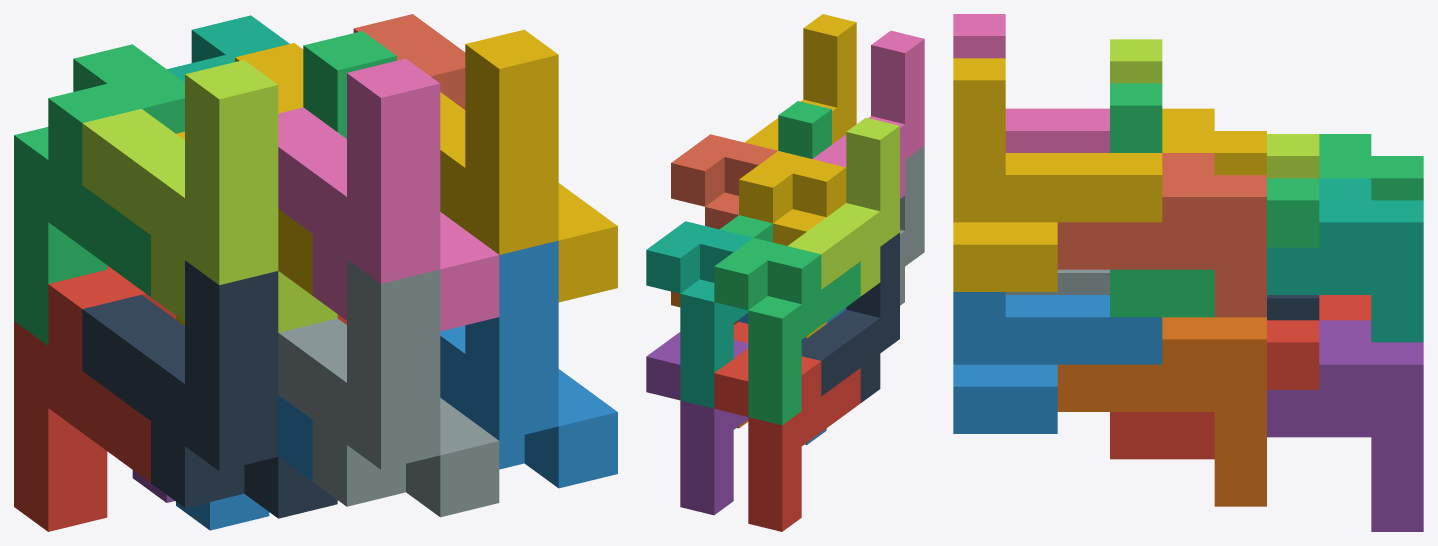
The model's file is tiling.obj.
3 views of the same model, side by side, from view 1: azimuth 30°, elevation 25°; view 2: azimuth 150°, elevation 25°; view 3: azimuth 270°, elevation 25° (orthographic). The views are drawn at different scales.
Parts seen in each view (by area): view 1: copy_2_domain_1, copy_2_domain_2, copy_2_domain_4, copy_2_domain_3, copy_2_domain_8, copy_1_domain_3, copy_2_domain_6, copy_1_domain_1, copy_2_domain_7, copy_1_domain_4, copy_1_domain_8, copy_1_domain_2 (+1 smaller); view 2: copy_1_domain_3, copy_1_domain_1, copy_1_domain_7, copy_2_domain_3, copy_1_domain_5, copy_2_domain_1, copy_1_domain_4, copy_2_domain_4, copy_2_domain_8, copy_1_domain_8, copy_2_domain_7, copy_2_domain_2; view 3: copy_2_domain_8, copy_2_domain_6, copy_1_domain_6, copy_1_domain_5, copy_1_domain_8, copy_1_domain_7, copy_2_domain_7, copy_2_domain_5, copy_2_domain_4, copy_2_domain_3, copy_1_domain_3, copy_1_domain_4 (+3 smaller).
Boxes of the visible parts, x1=… form: copy_2_domain_1: x1=82, y1=260, x2=337, y2=518; copy_2_domain_2: x1=278, y1=259, x2=499, y2=517; copy_2_domain_4: x1=278, y1=58, x2=499, y2=331; copy_2_domain_3: x1=82, y1=60, x2=337, y2=332; copy_2_domain_8: x1=440, y1=29, x2=617, y2=302; copy_1_domain_3: x1=14, y1=44, x2=184, y2=345; copy_2_domain_6: x1=440, y1=240, x2=617, y2=488; copy_1_domain_1: x1=14, y1=265, x2=175, y2=531; copy_2_domain_7: x1=303, y1=31, x2=396, y2=138; copy_1_domain_4: x1=176, y1=43, x2=312, y2=325; copy_1_domain_8: x1=353, y1=14, x2=465, y2=109; copy_1_domain_2: x1=176, y1=395, x2=312, y2=530; copy_1_domain_3: x1=714, y1=238, x2=860, y2=424; copy_1_domain_1: x1=714, y1=348, x2=860, y2=531; copy_1_domain_7: x1=646, y1=221, x2=752, y2=408; copy_2_domain_3: x1=788, y1=117, x2=899, y2=296; copy_1_domain_5: x1=646, y1=332, x2=748, y2=515; copy_2_domain_1: x1=801, y1=232, x2=899, y2=402; copy_1_domain_4: x1=739, y1=151, x2=846, y2=338; copy_2_domain_4: x1=812, y1=30, x2=924, y2=198; copy_2_domain_8: x1=744, y1=14, x2=856, y2=150; copy_1_domain_8: x1=671, y1=134, x2=777, y2=321; copy_2_domain_7: x1=720, y1=101, x2=831, y2=242; copy_2_domain_2: x1=900, y1=146, x2=924, y2=305; copy_2_domain_8: x1=953, y1=58, x2=1162, y2=291; copy_2_domain_6: x1=953, y1=292, x2=1162, y2=433; copy_1_domain_6: x1=1057, y1=317, x2=1266, y2=506; copy_1_domain_5: x1=1267, y1=320, x2=1423, y2=531; copy_1_domain_8: x1=1057, y1=153, x2=1266, y2=317; copy_1_domain_7: x1=1267, y1=178, x2=1423, y2=342; copy_2_domain_7: x1=1110, y1=83, x2=1319, y2=317; copy_2_domain_5: x1=1110, y1=320, x2=1319, y2=459; copy_2_domain_4: x1=953, y1=14, x2=1109, y2=152; copy_2_domain_3: x1=1110, y1=39, x2=1319, y2=178; copy_1_domain_3: x1=1319, y1=134, x2=1423, y2=200; copy_1_domain_4: x1=1162, y1=108, x2=1266, y2=174.
Bounding box in the file's own units: 5 × 10 × 9.
